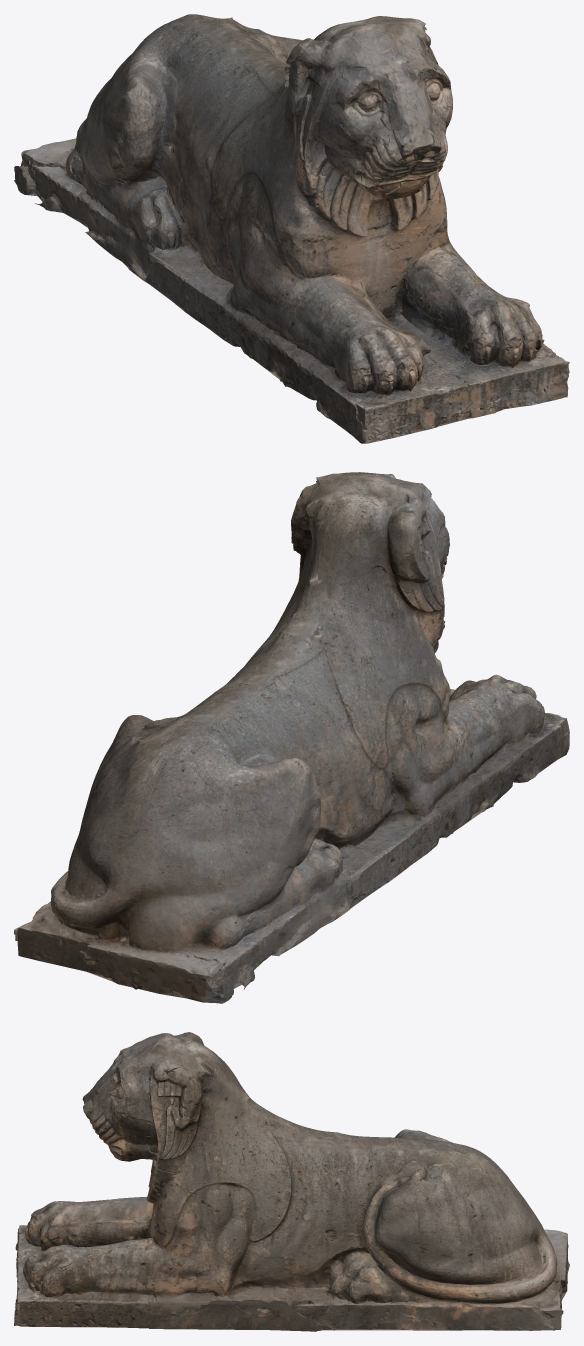
File: lion_palais_de_justice_d_orl_ans_france.glb
The picture shows the model from 3 angles, top to bottom: view 1: azimuth 30°, elevation 25°; view 2: azimuth 150°, elevation 25°; view 3: azimuth 270°, elevation 25°; orthographic projection. The views are drawn at different scales.
Parts seen in each view (by area): view 1: Object_2; view 2: Object_2; view 3: Object_2.
Part boxes in pixels (x1,y1,x2,y2): Object_2: (14,14,569,443); Object_2: (14,472,569,1003); Object_2: (14,1032,569,1331).
Size of the model in its own units: 10.08 by 14.55 by 29.17.
Materials: 1 (1 with a texture image).
